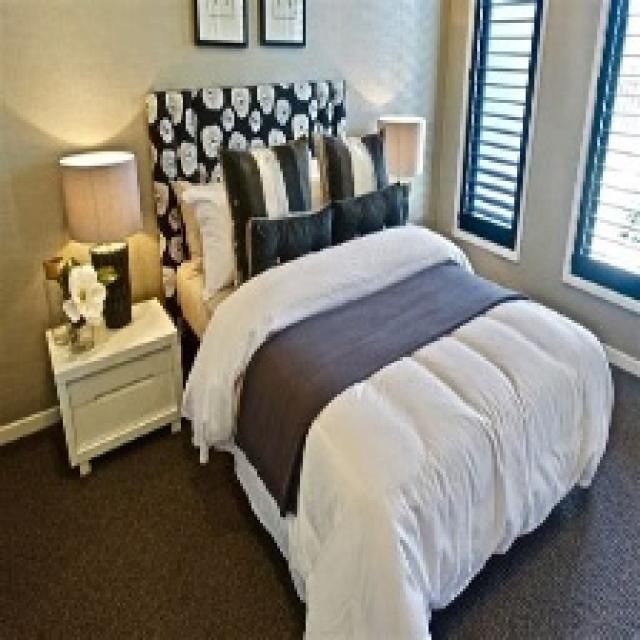Bed: (143, 77, 614, 637)
